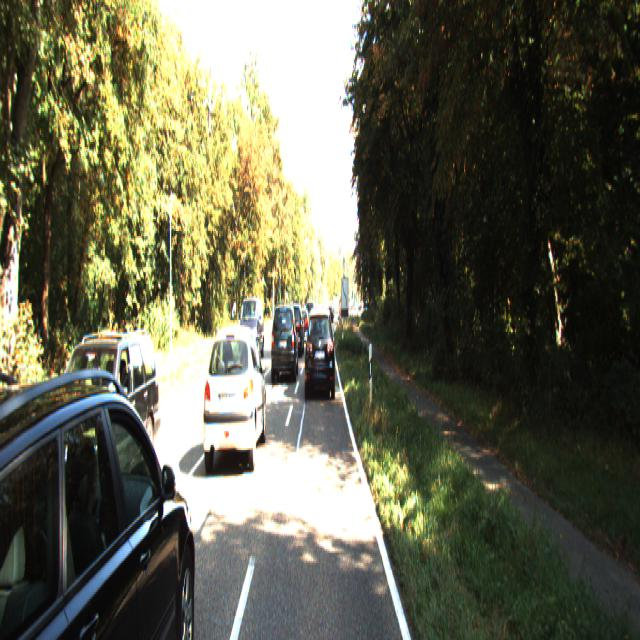Car: (0, 344, 202, 638), (18, 322, 164, 536), (202, 320, 266, 476), (304, 302, 335, 394), (271, 300, 298, 378), (238, 294, 264, 360)
